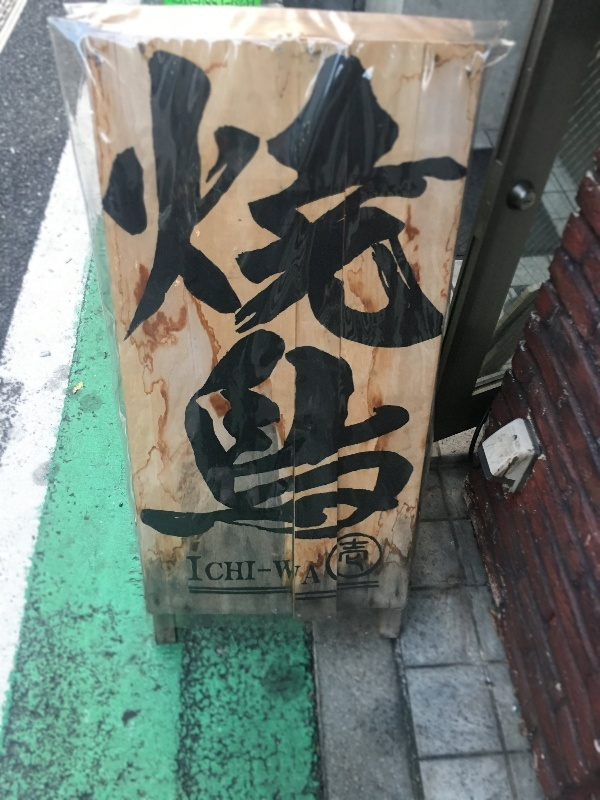text: (97, 43, 112, 542), (113, 43, 128, 542), (129, 43, 144, 542), (145, 43, 160, 542), (161, 43, 176, 542), (177, 43, 192, 542), (193, 43, 208, 542), (209, 43, 224, 542), (225, 43, 240, 542), (241, 43, 256, 542), (257, 43, 272, 542), (273, 43, 288, 542), (289, 43, 304, 542), (305, 43, 320, 542), (321, 43, 336, 542), (337, 43, 352, 542), (353, 43, 368, 542), (369, 43, 384, 542), (385, 43, 400, 542), (401, 43, 416, 542), (417, 43, 432, 542), (433, 43, 448, 542), (449, 43, 464, 542), (465, 43, 480, 542), (86, 43, 96, 542), (481, 43, 483, 542), (353, 538, 369, 572), (305, 556, 321, 586), (193, 556, 208, 586), (209, 556, 224, 586), (225, 556, 240, 586), (241, 556, 256, 586), (257, 556, 272, 586), (273, 556, 288, 586), (289, 556, 304, 586), (340, 538, 352, 572), (186, 556, 192, 586)
